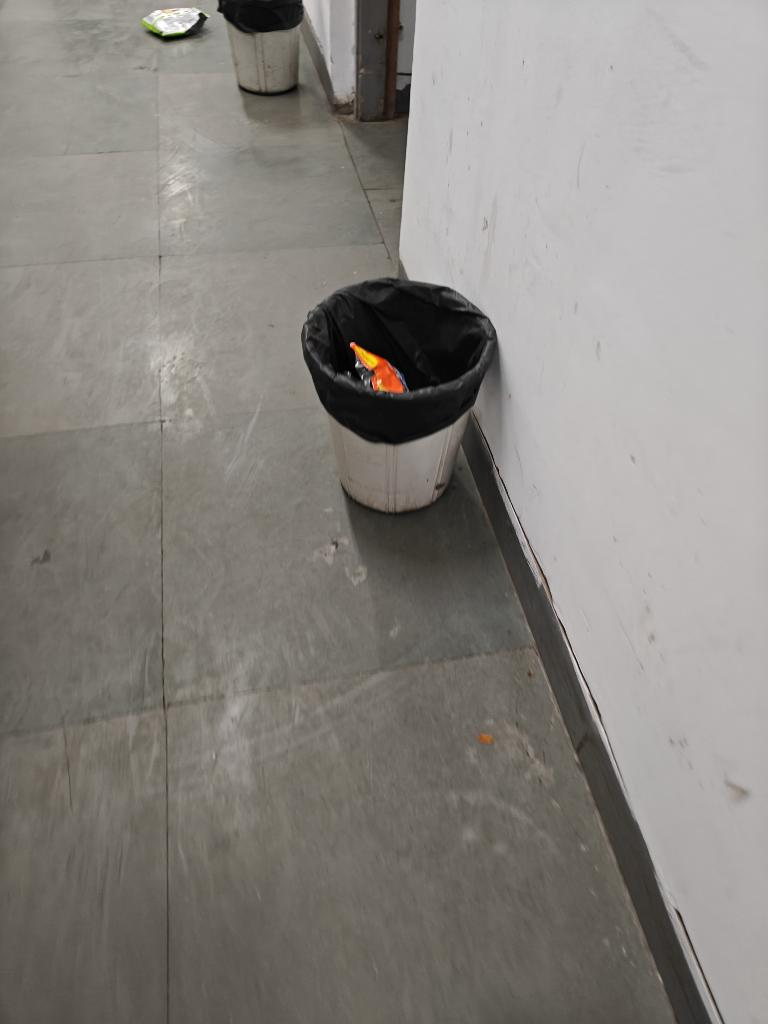dustbin: (276, 274, 525, 537)
